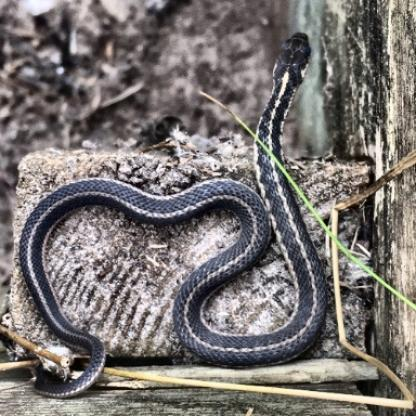Snake: (18, 26, 330, 404)
